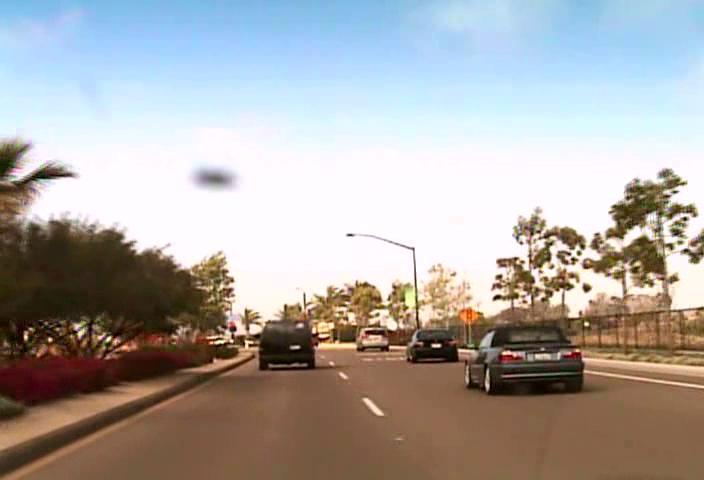signalAhead: (457, 305, 479, 326)
